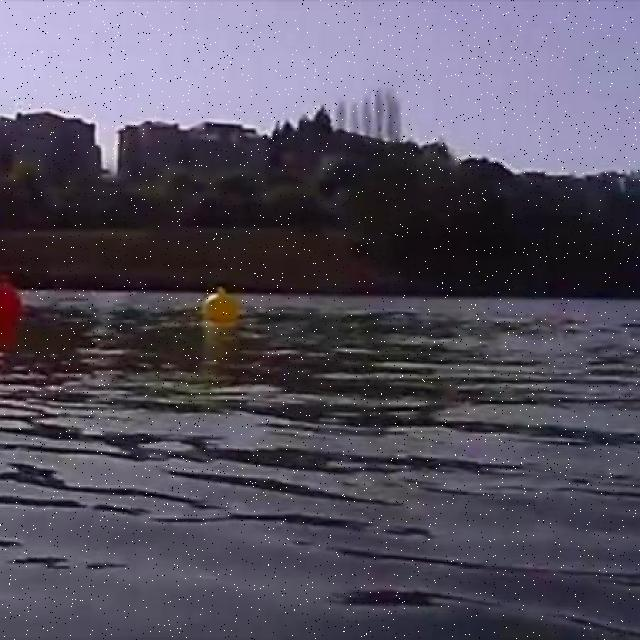buoy: (0, 273, 24, 349), (202, 285, 240, 322)
